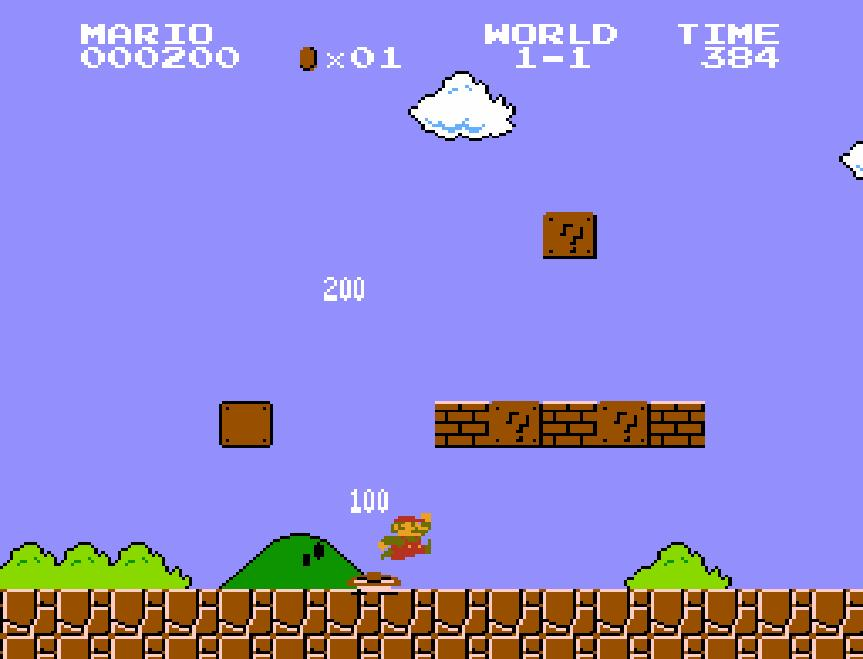little_mario: (376, 512, 434, 562)
